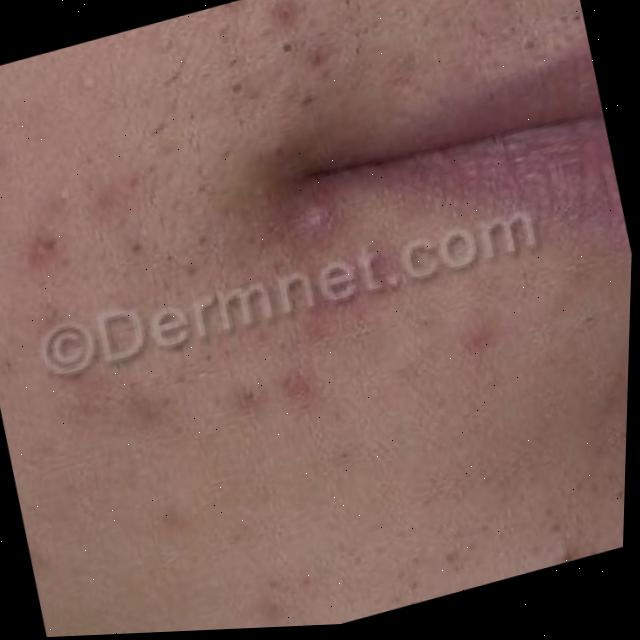Acne: (44, 64, 503, 469)
